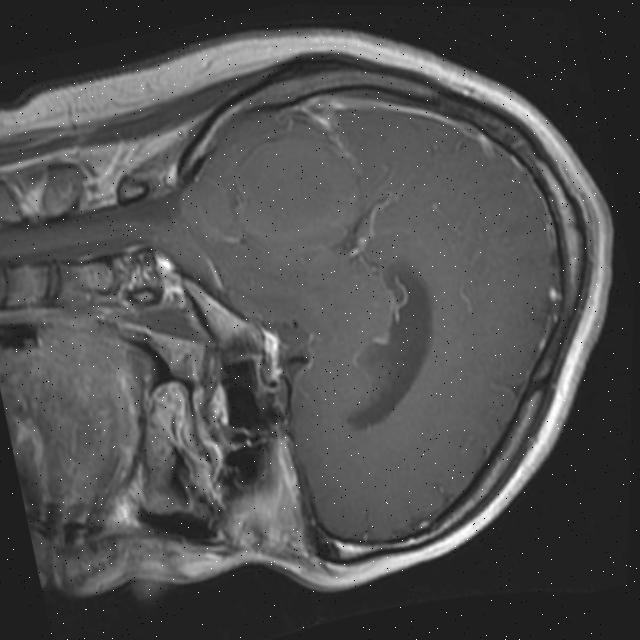Glioma: (218, 118, 375, 262)
